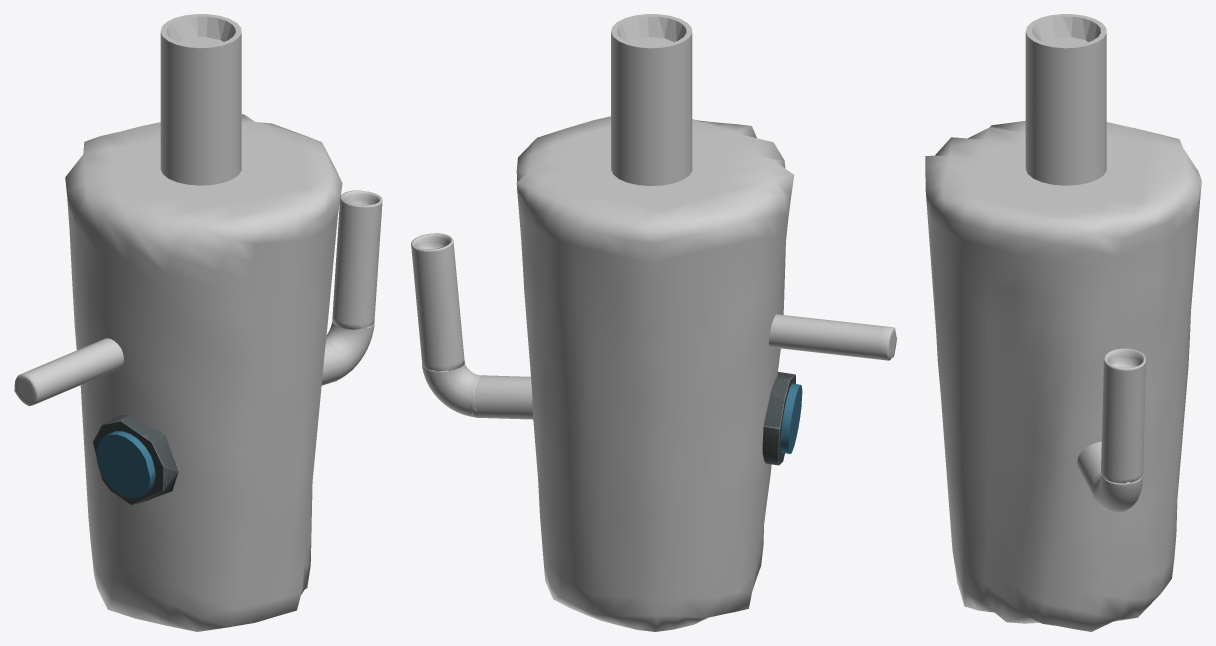
The model's file is Edificio 2 TXT.fbx.
The picture shows the model from 3 angles, left to right: view 1: azimuth 30°, elevation 25°; view 2: azimuth 150°, elevation 25°; view 3: azimuth 270°, elevation 25°; orthographic projection.
Visible parts, largest first — view 1: polySurface1; view 2: polySurface1; view 3: polySurface1.
Part boxes in pixels (x1=…): polySurface1: x1=14, y1=14, x2=382, y2=631; polySurface1: x1=411, y1=14, x2=896, y2=631; polySurface1: x1=925, y1=14, x2=1201, y2=631.
Bounding box in the file's own units: 42.5 × 53.83 × 24.27.
